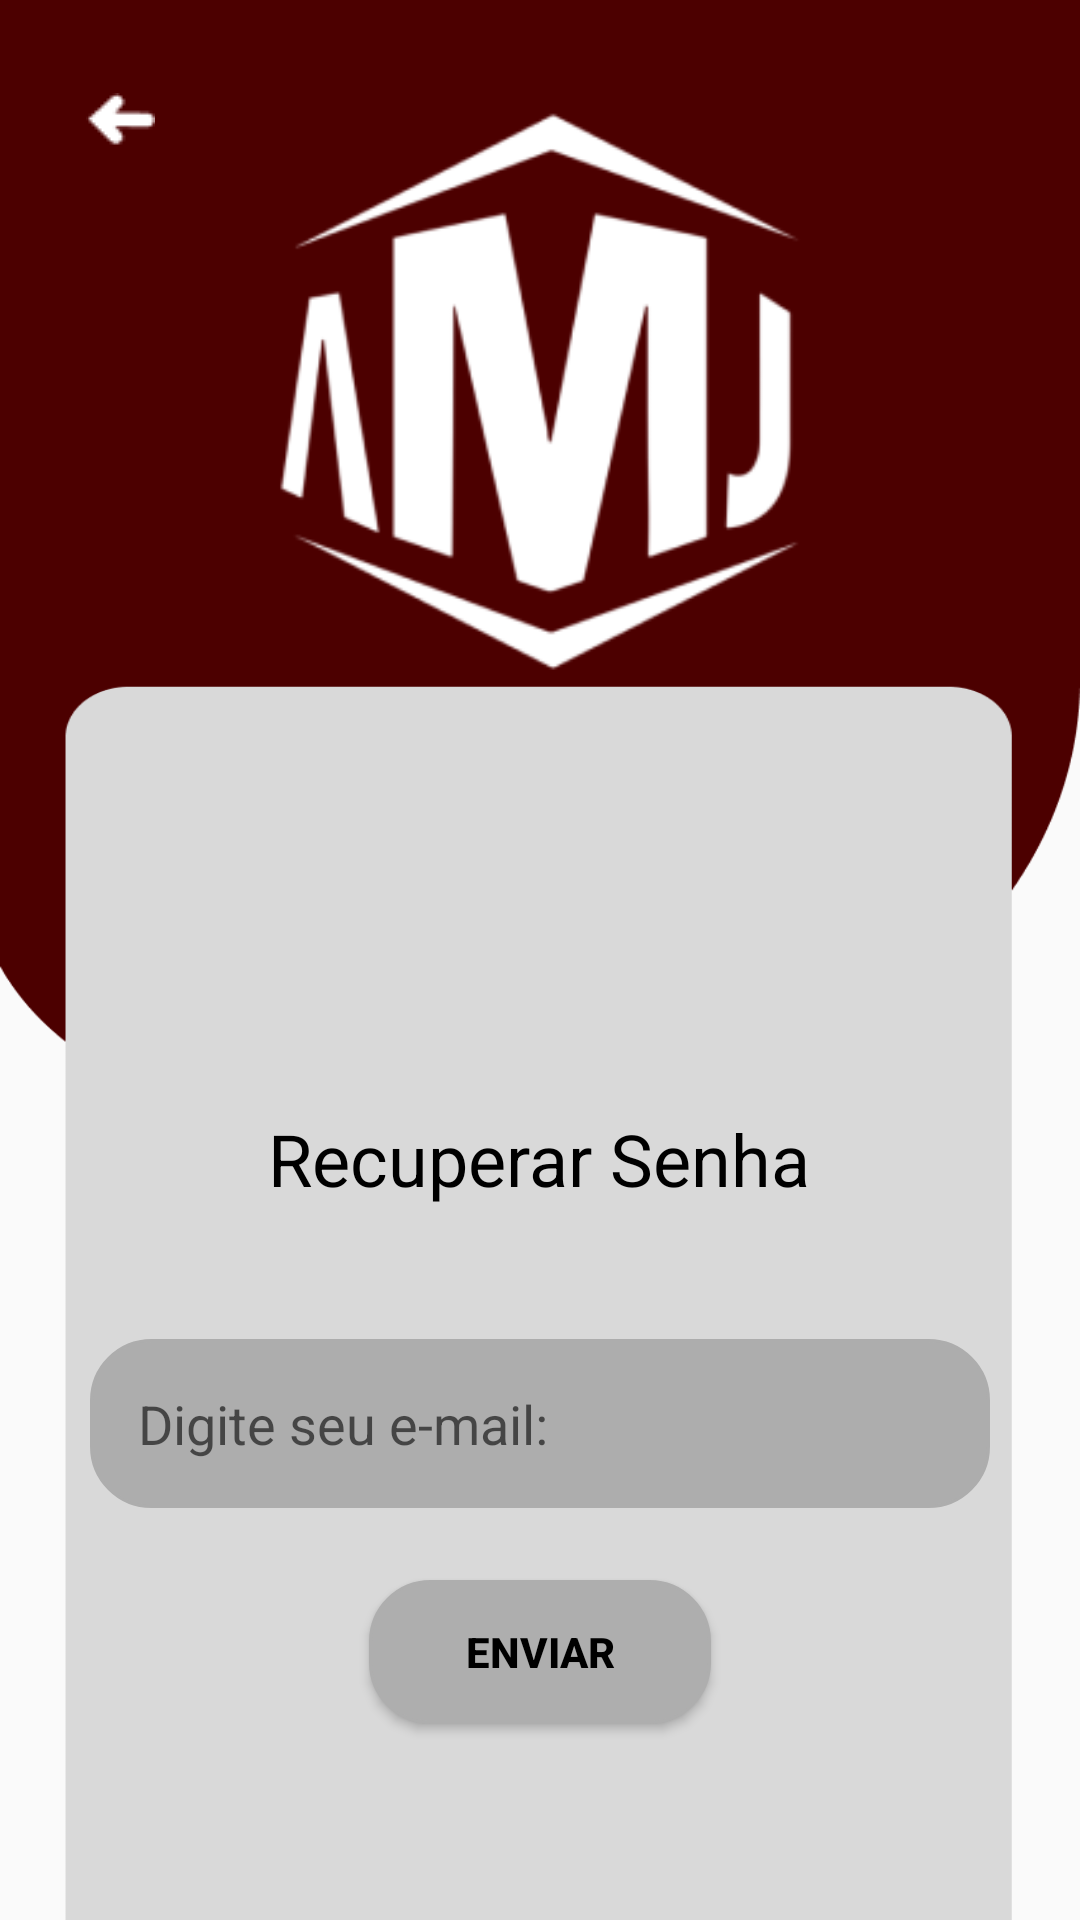

Icons on this 1080 x 1920 Android screen, each with the point to tap as (x,y):
setinha branca: (121,119)
